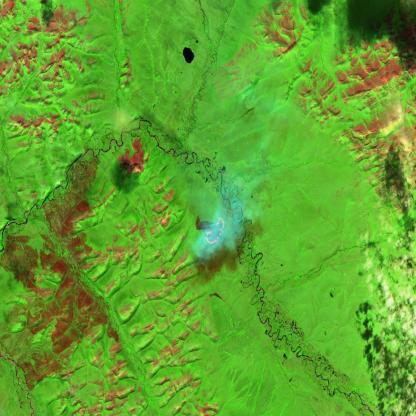fire: (204, 215, 226, 249)
